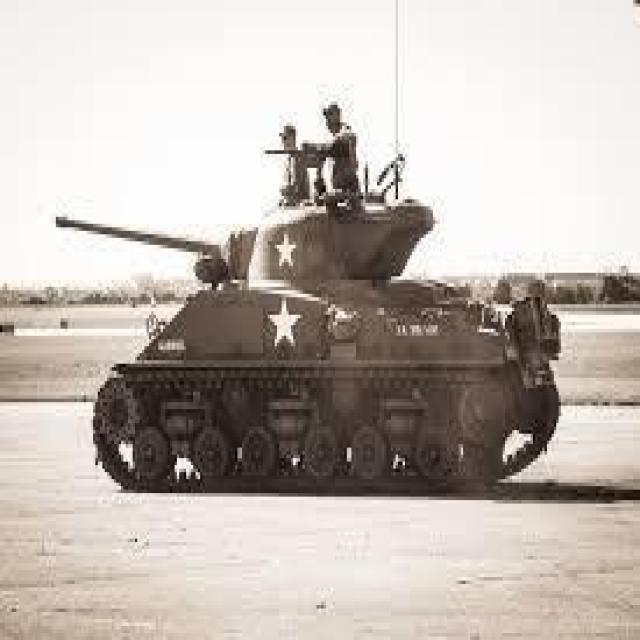Tanks: (15, 39, 569, 577)
